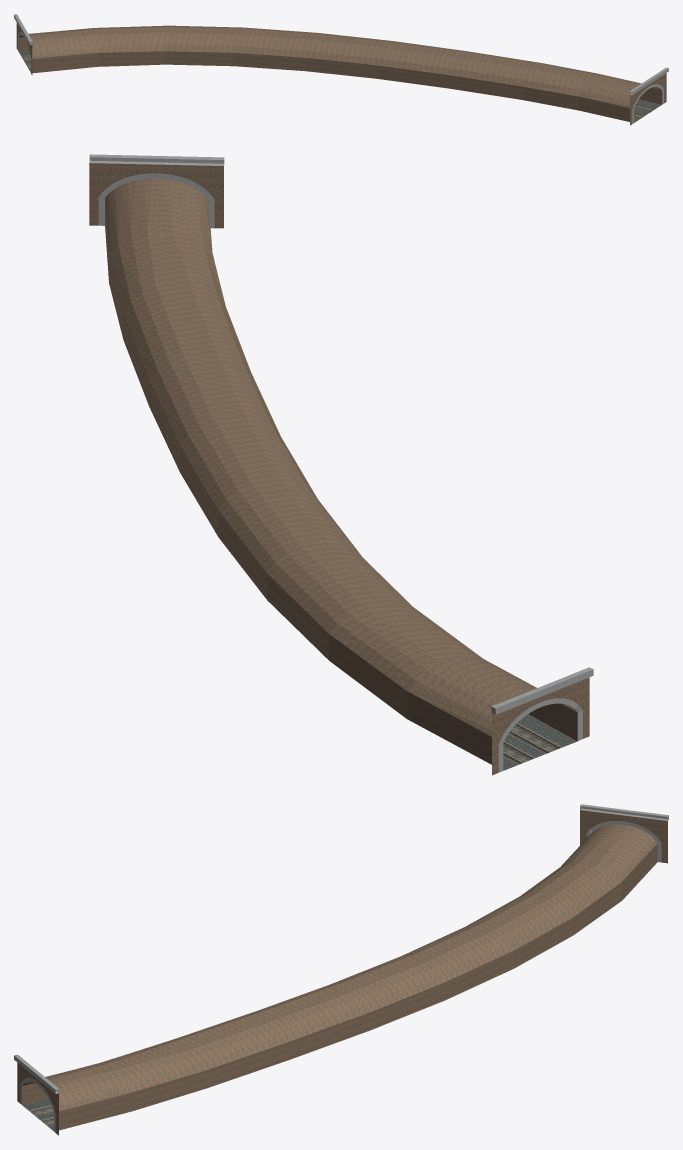
File: des_ltraintunnel2.obj
3 renders of one model, top to bottom at view 1: azimuth 30°, elevation 25°; view 2: azimuth 150°, elevation 25°; view 3: azimuth 270°, elevation 25°, orthographic. The views are drawn at different scales.
Parts seen in each view (by area): view 1: des_ltraintunnel2; view 2: des_ltraintunnel2; view 3: des_ltraintunnel2.
Part boxes in pixels (bbox=[...]): des_ltraintunnel2: bbox=[14, 14, 668, 125]; des_ltraintunnel2: bbox=[89, 154, 593, 775]; des_ltraintunnel2: bbox=[14, 804, 668, 1135].
Bounding box in the file's own units: 110 × 9.83 × 103.
4 materials, 4 textured.
